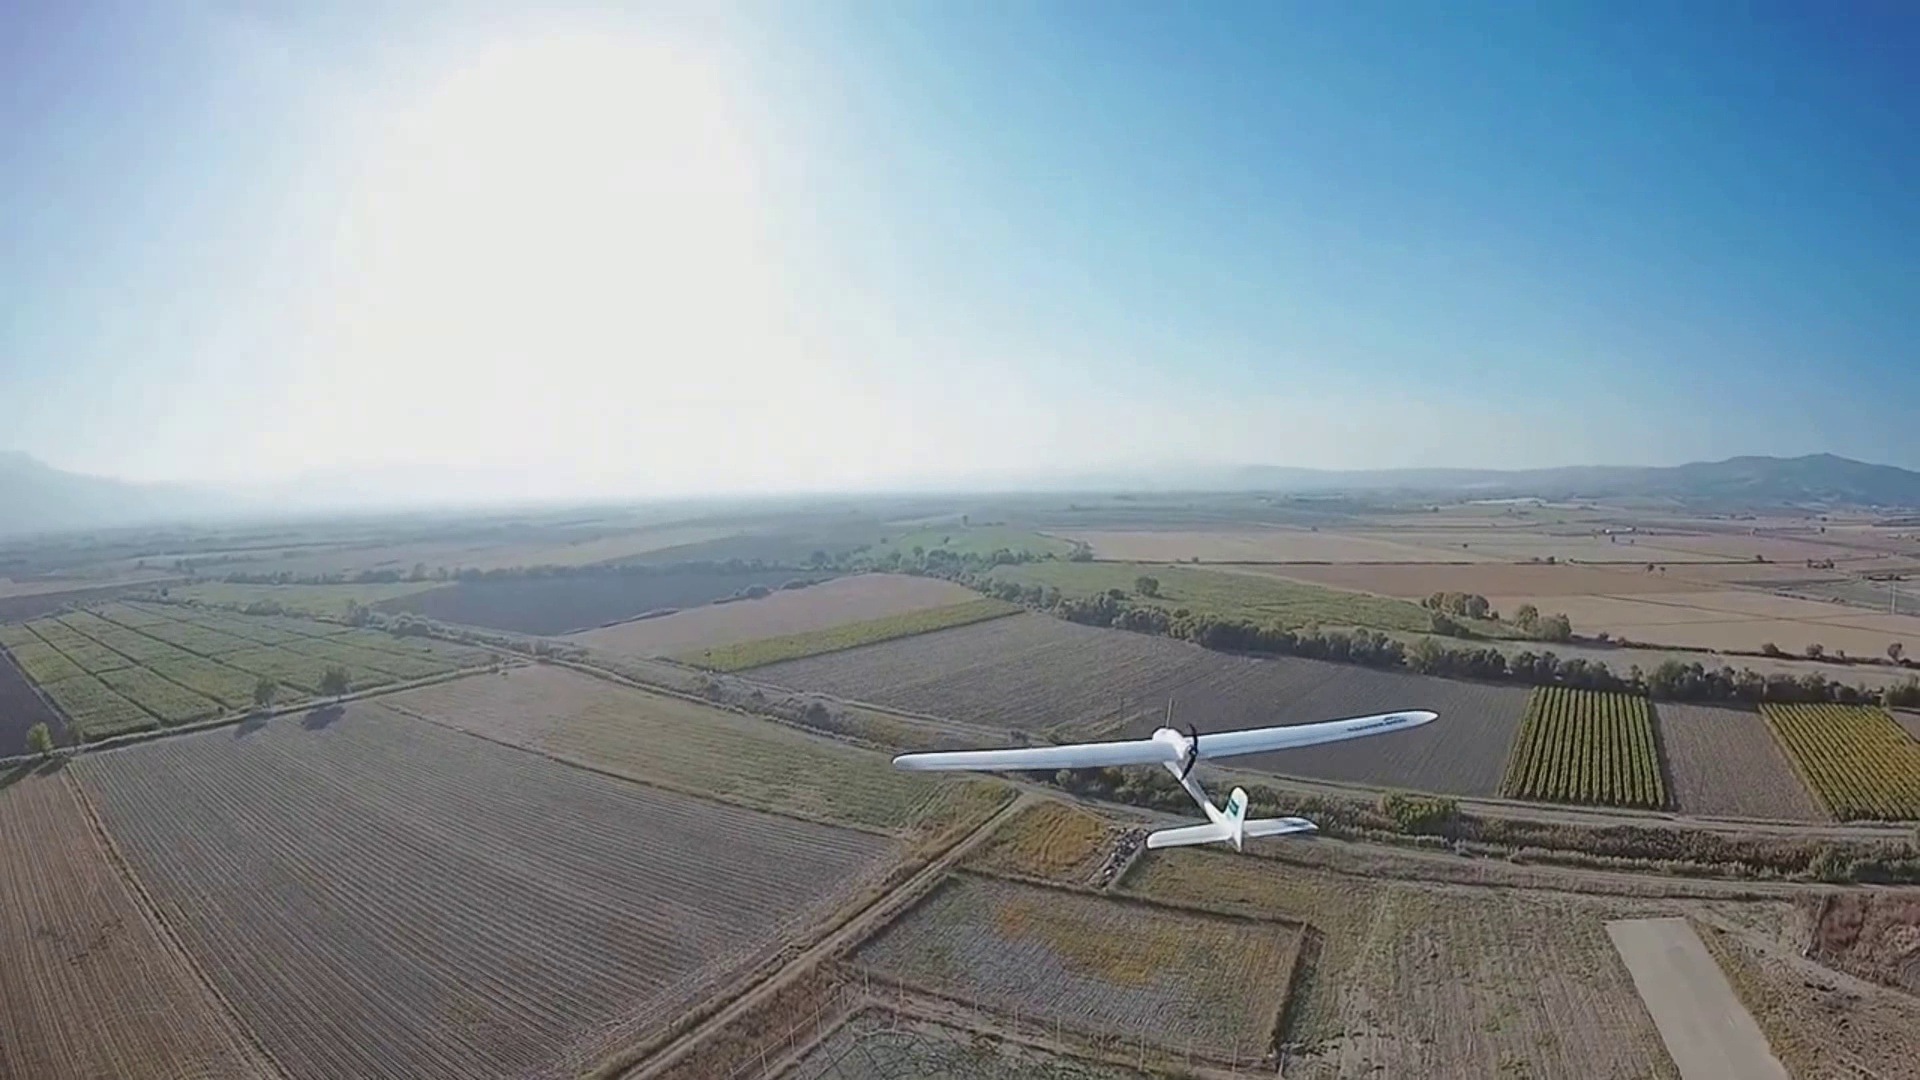airplane: (890, 710, 1439, 858)
